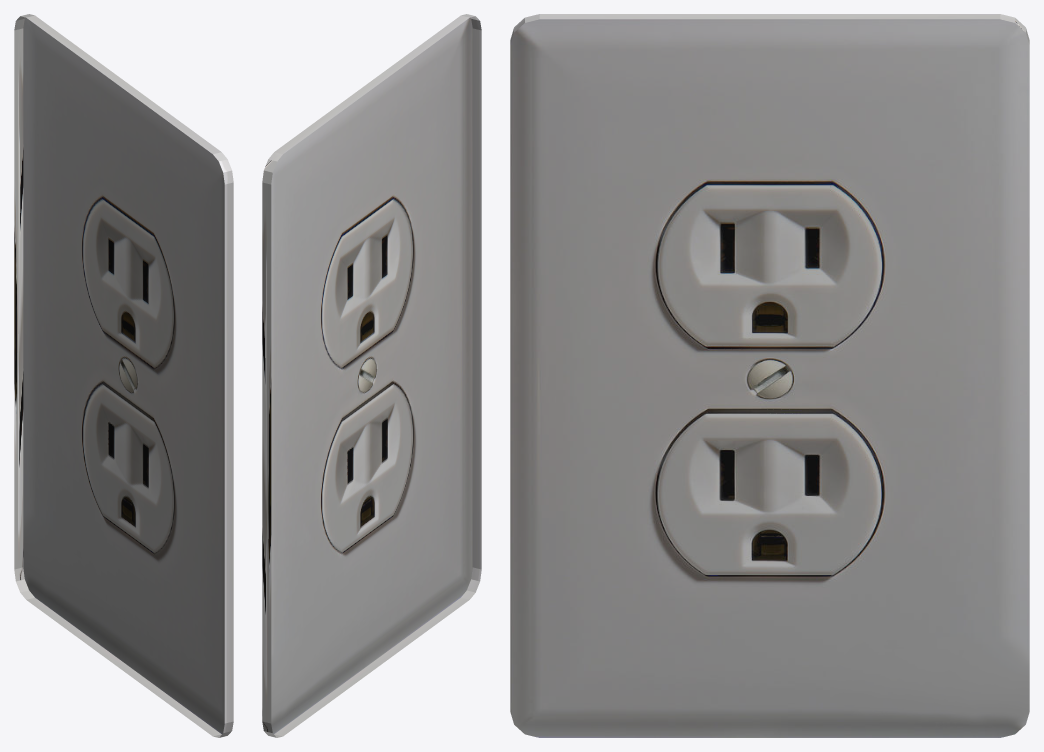
File: Outlet.fbx
3 views of the same model, side by side, from view 1: azimuth 30°, elevation 25°; view 2: azimuth 150°, elevation 25°; view 3: azimuth 270°, elevation 25° (orthographic). The views are drawn at different scales.
Parts seen in each view (by area): view 1: Cube; view 2: Cube; view 3: Cube.
Boxes of the visible parts, box(x1,y1,x2,y2) form: Cube: box(14, 14, 233, 737); Cube: box(262, 14, 481, 737); Cube: box(510, 14, 1029, 737).
Size of the model in its own units: 6.46 by 400 by 262.
